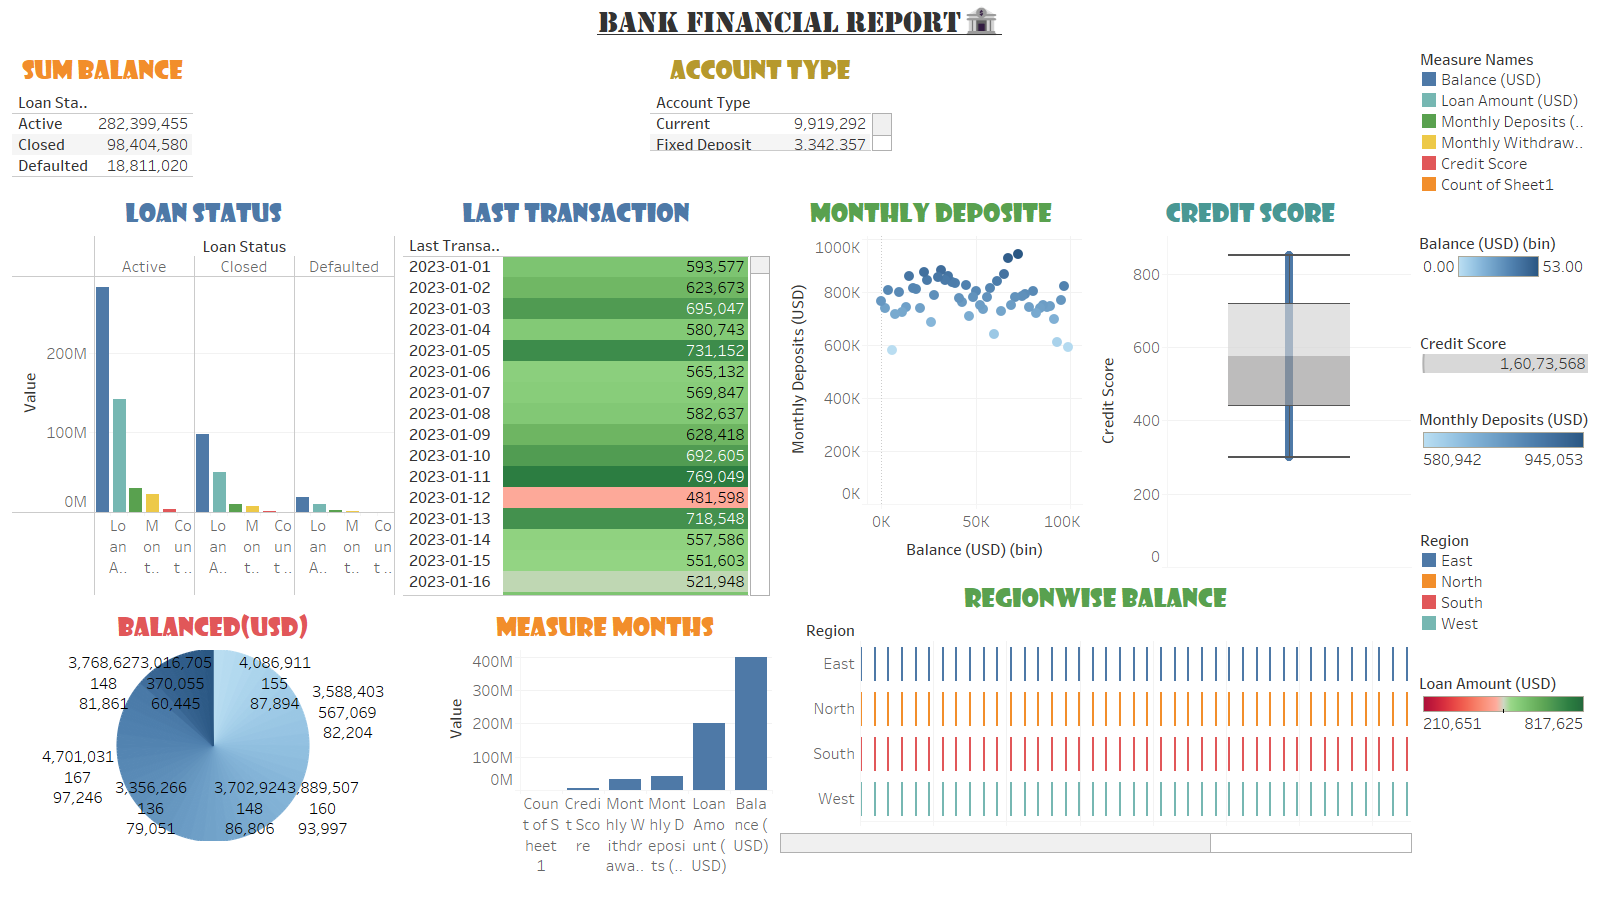

What the dashboard file says about the page in this screenshot:
{"tool":"tableau","page":{"name":"Dashboard 1","canvas":[1600,900],"ordinal":0},"visuals":[{"type":"title","box":[8,8,1584,35]},{"type":"worksheet","title":"Sum balance ","mark":"Automatic","rows":["Loan Status"],"box":[8,43,638.1,143]},{"type":"worksheet","title":"Account Type","mark":"Automatic","rows":["Account Type"],"box":[646.1,43,768.9,143]},{"type":"legend","title":"Loan Status","param":"[federated.1k4o7y81lkpire1bjne3s0q26ffg].[:Measure Names]","box":[1415,43,177,156]},{"type":"worksheet","title":"Loan Status","mark":"Automatic","cols":["Loan Status"],"box":[8,186,391.4,414]},{"type":"worksheet","title":"Last Transaction","mark":"Square","rows":["Last Transaction Date"],"box":[399.4,186,376.5,414]},{"type":"worksheet","title":"Monthly Deposite ","mark":"Circle","rows":["Monthly Deposits (USD)"],"cols":["Balance (USD) (bin)"],"box":[775.9,186,310.1,385]},{"type":"worksheet","title":"Credit Score","mark":"Circle","rows":["Credit Score"],"box":[1086,186,329,385]},{"type":"legend","title":"Balanced(USD)","param":"[federated.1k4o7y81lkpire1bjne3s0q26ffg].[none:Balance (USD) (bin):qk]","box":[1415,225.4,177,102]},{"type":"legend","title":"Balanced(USD)","param":"[federated.1k4o7y81lkpire1bjne3s0q26ffg].[sum:Credit Score:qk]","box":[1415,327.4,177,74]},{"type":"legend","title":"Monthly Deposite ","param":"[federated.1k4o7y81lkpire1bjne3s0q26ffg].[sum:Monthly Deposits (USD):qk]","box":[1415,401.4,177,123]},{"type":"legend","title":"Region wise balance ","param":"[federated.1k4o7y81lkpire1bjne3s0q26ffg].[none:Region:nk]","box":[1415,524.4,177,141]},{"type":"worksheet","title":"Region wise balance ","mark":"Automatic","rows":["Region"],"cols":["Balance (USD) (bin)"],"box":[775.9,571,639.1,321]},{"type":"worksheet","title":"Balanced(USD)","mark":"Pie","box":[8,600,426,292]},{"type":"worksheet","title":"Measure months","mark":"Automatic","box":[434,600,341.9,292]},{"type":"legend","title":"Last Transaction","param":"[federated.1k4o7y81lkpire1bjne3s0q26ffg].[sum:Loan Amount (USD):qk]","box":[1415,665.4,177,151]}]}

Visuals, with their boxes in screenshot pixels (x1, y1, x2, y2), scaled from the page's 1600x900 canvas onto the 1600x900 screenshot:
title: detection(8, 8, 1592, 43)
"Sum balance " worksheet: detection(8, 43, 646, 186)
"Account Type" worksheet: detection(646, 43, 1415, 186)
"Loan Status" legend: detection(1415, 43, 1592, 199)
"Loan Status" worksheet: detection(8, 186, 399, 600)
"Last Transaction" worksheet (Square marks): detection(399, 186, 776, 600)
"Monthly Deposite " worksheet (Circle marks): detection(776, 186, 1086, 571)
"Credit Score" worksheet (Circle marks): detection(1086, 186, 1415, 571)
"Balanced(USD)" legend: detection(1415, 225, 1592, 327)
"Balanced(USD)" legend: detection(1415, 327, 1592, 401)
"Monthly Deposite " legend: detection(1415, 401, 1592, 524)
"Region wise balance " legend: detection(1415, 524, 1592, 665)
"Region wise balance " worksheet: detection(776, 571, 1415, 892)
"Balanced(USD)" worksheet (Pie marks): detection(8, 600, 434, 892)
"Measure months" worksheet: detection(434, 600, 776, 892)
"Last Transaction" legend: detection(1415, 665, 1592, 816)
